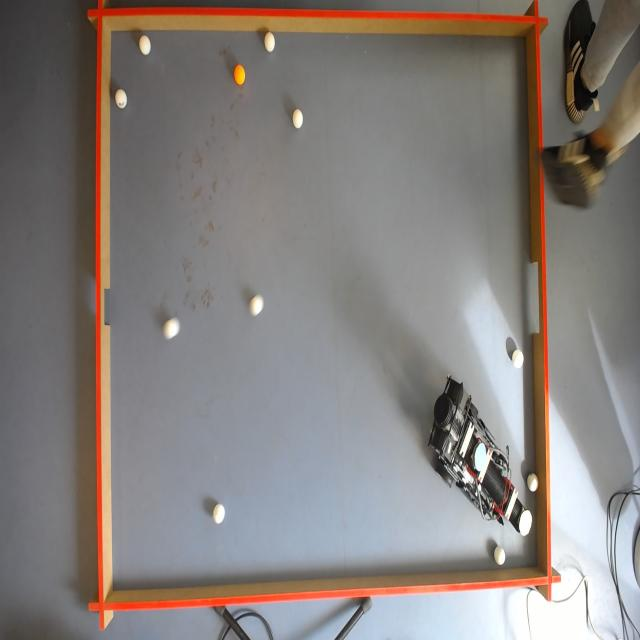orange: (232, 66, 246, 85)
robot: (430, 375, 532, 536)
robot-front: (520, 510, 532, 537)
robot-rear: (475, 442, 486, 470)
white: (214, 503, 228, 525), (137, 36, 151, 58), (494, 546, 508, 568), (251, 295, 265, 316), (165, 320, 179, 340), (115, 87, 127, 110), (292, 110, 305, 131), (264, 33, 276, 54), (528, 474, 540, 492), (514, 353, 524, 368)
